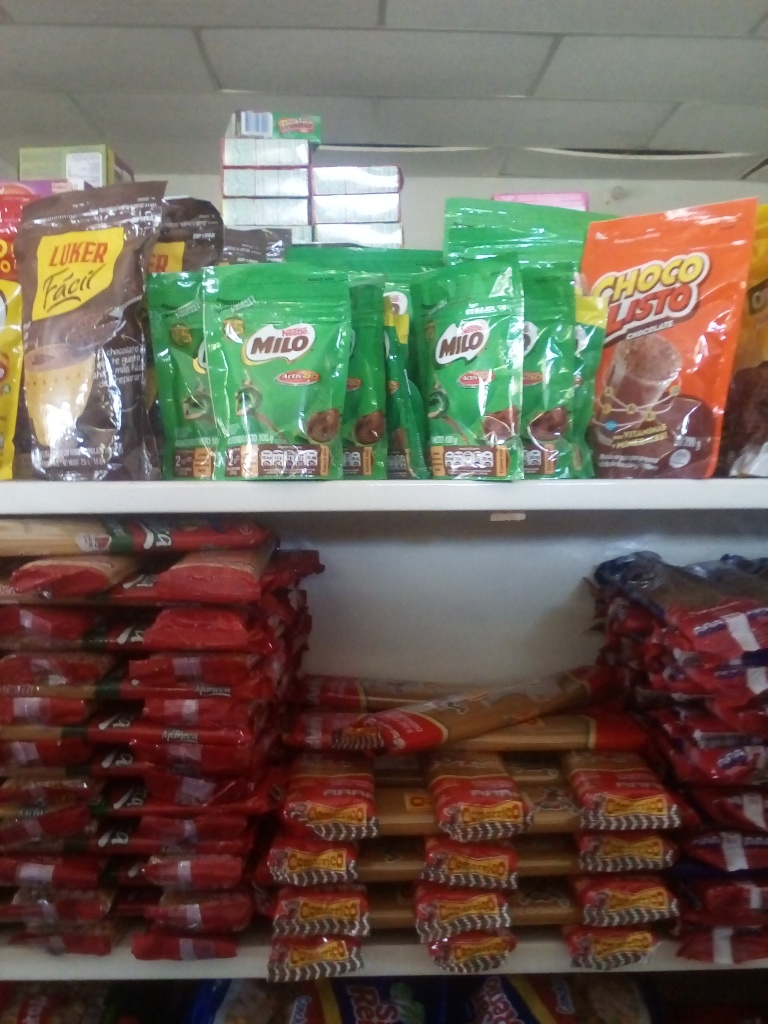COL0170203DYP10000: (202, 264, 349, 482)
